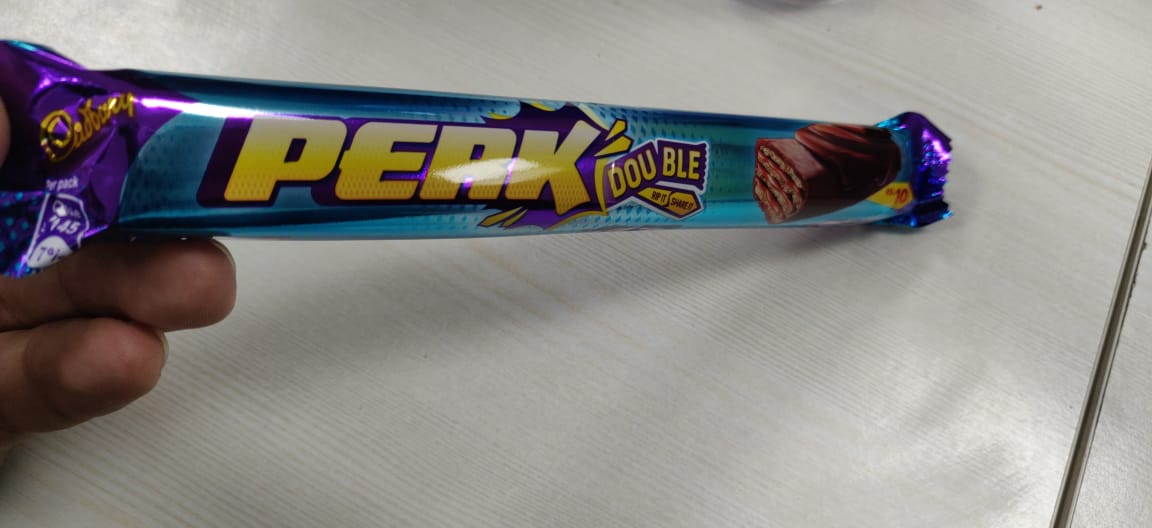perk: (1, 28, 989, 297)
